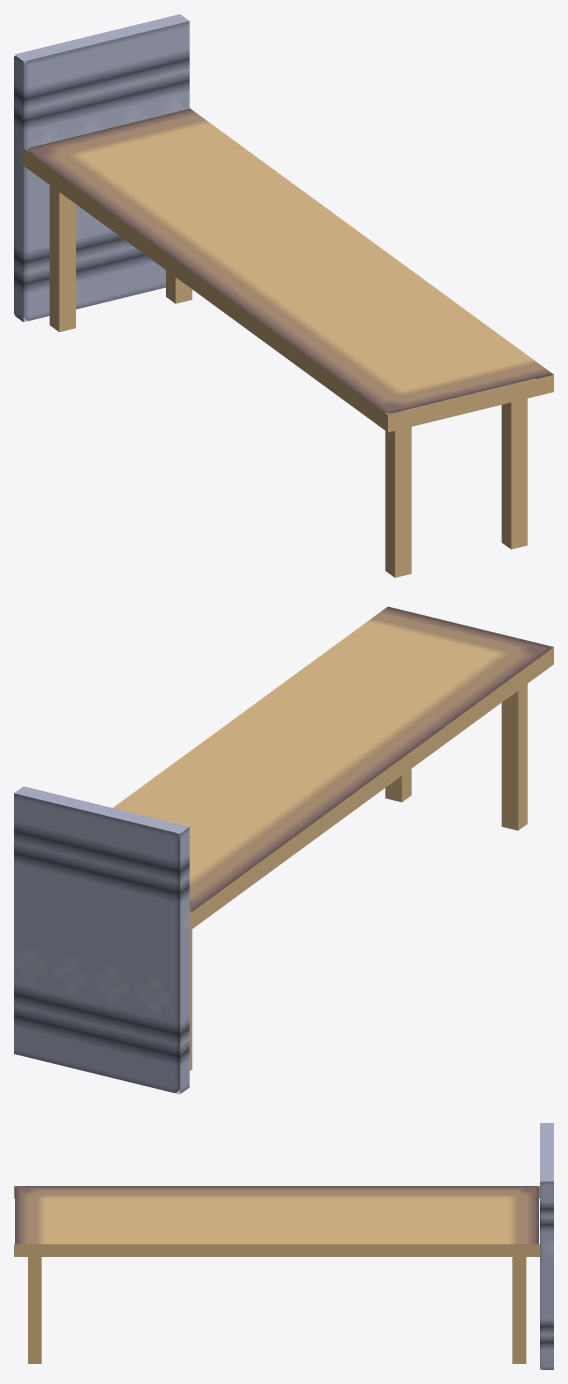
Rendered from Cubicle_Taco_shop.fbx.
3 renders of one model, top to bottom at view 1: azimuth 30°, elevation 25°; view 2: azimuth 150°, elevation 25°; view 3: azimuth 270°, elevation 25°, orthographic. The views are drawn at different scales.
Visible parts, largest first — view 1: Cube.080, Cube.082, Cube.078; view 2: Cube.080, Cube.082, Cube.078; view 3: Cube.080, Cube.082, Cube.078.
Part boxes in pixels (box(x1,y1,x2,y2)): Cube.080: box(23, 108, 553, 432); Cube.082: box(14, 14, 189, 322); Cube.078: box(49, 185, 527, 577); Cube.080: box(113, 606, 553, 930); Cube.082: box(14, 786, 189, 1094); Cube.078: box(189, 684, 527, 1070); Cube.080: box(14, 1186, 539, 1256); Cube.082: box(540, 1123, 553, 1369); Cube.078: box(28, 1257, 526, 1363).
Size of the model in its own units: 100 by 150 by 390.
